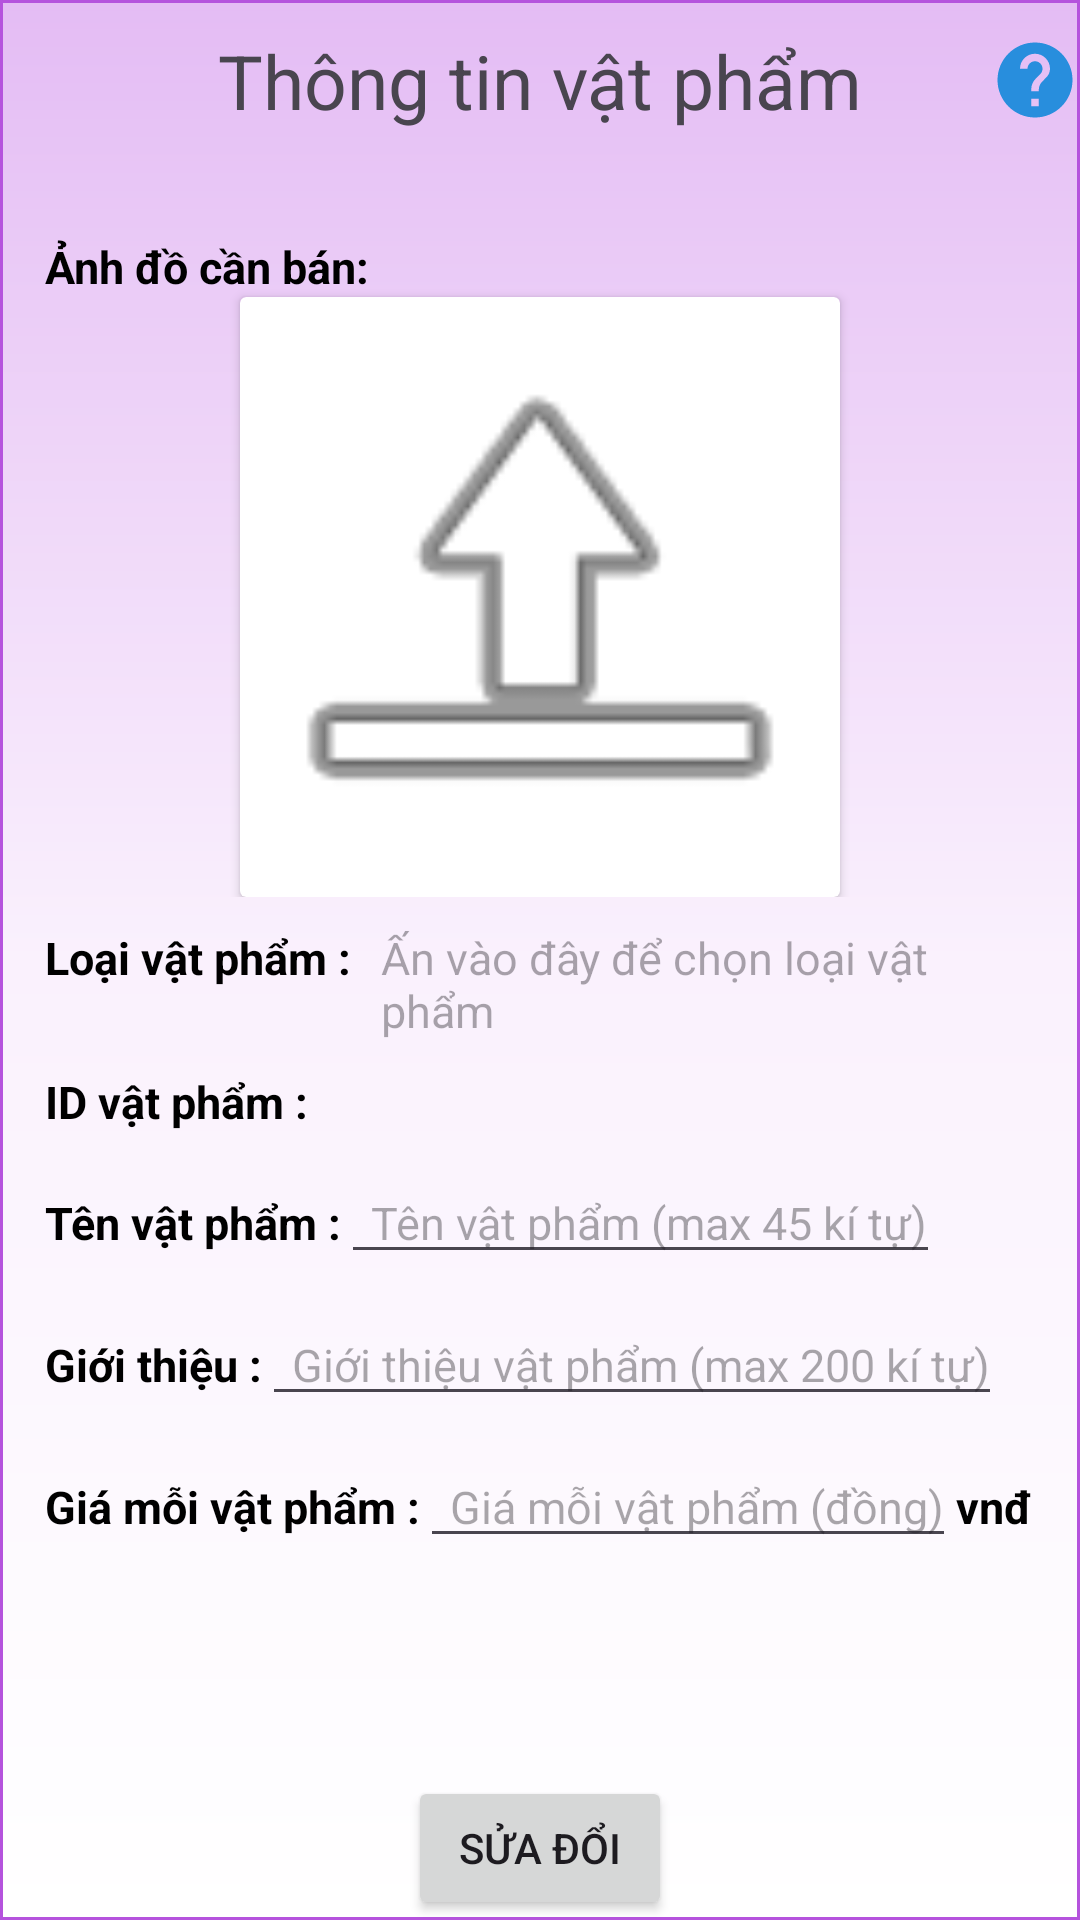

Screen size 1080*1920. Icon name, then its center in pixels as (x=x, y=y):
help: (x=1035, y=80)
